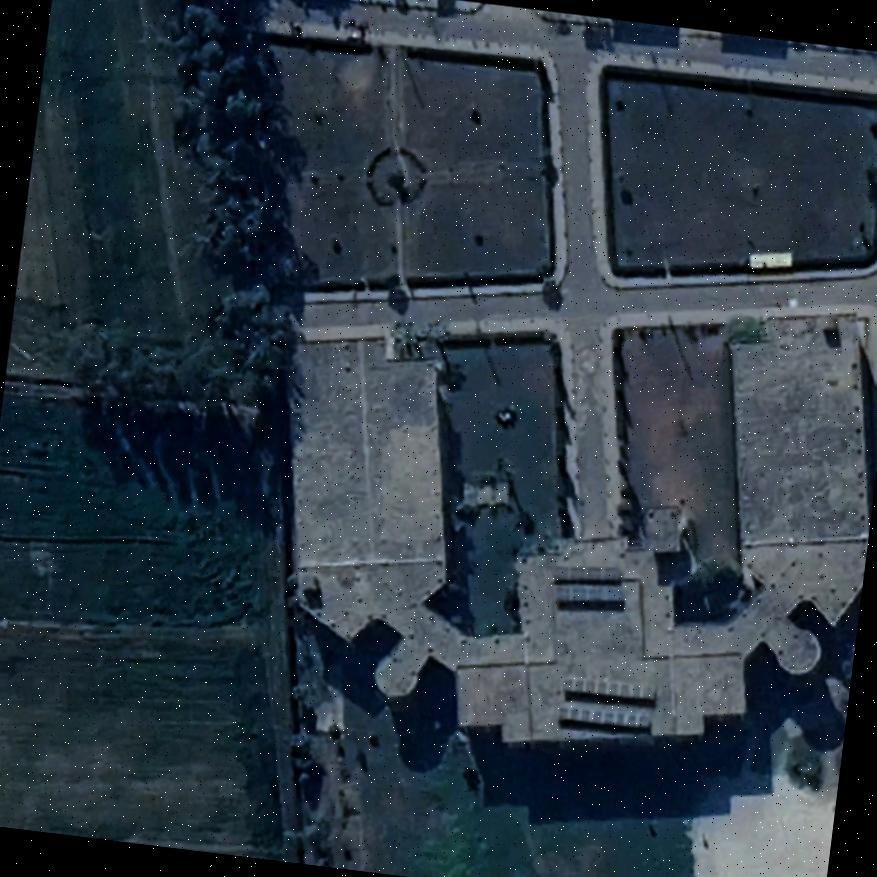Solarpanel: (558, 672, 660, 706), (554, 700, 656, 734), (548, 574, 630, 612), (548, 556, 627, 590)
